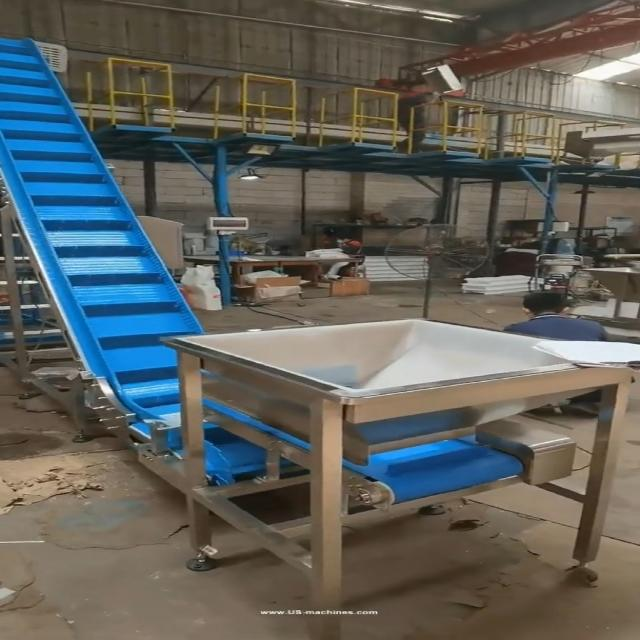Convoyeur: (0, 37, 602, 518)
